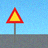sign: (6, 7, 24, 42)
